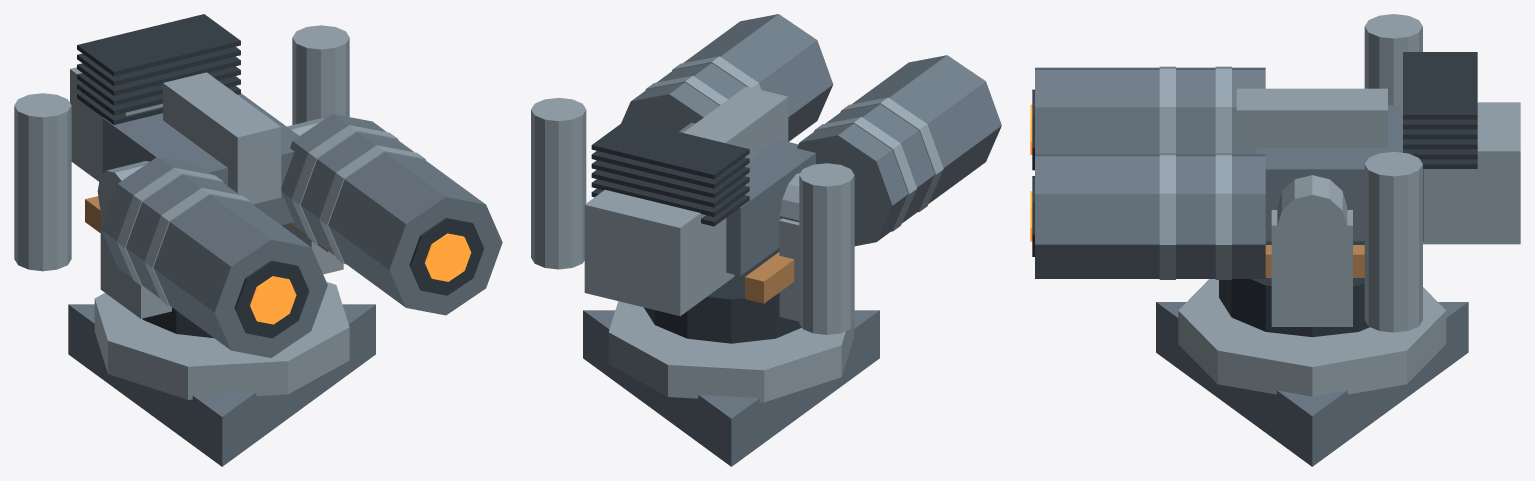
File: kiln_t2.glb
3 views of the same model, side by side, from view 1: azimuth 30°, elevation 25°; view 2: azimuth 150°, elevation 25°; view 3: azimuth 270°, elevation 25° (orthographic). The views are drawn at different scales.
Visible parts, largest first — view 1: Projector chamber (×2), Pressure tank (×2), Base upper armor, Foundation, Rear radiator (×6), Cooling spine, Focusing rim (×4), Receiver, Recessed throat (×2), Internal glow (×2), Elevation fork (×2), Rear equipment (+2 smaller); view 2: Projector chamber (×2), Pressure tank (×2), Base upper armor, Rear equipment, Rear radiator (×6), Foundation, Receiver, Yaw bearing, Cooling spine, Focusing rim (×4), Insulated feed, Elevation fork (+1 smaller); view 3: Projector chamber (×2), Base upper armor, Pressure tank (×2), Foundation, Rear equipment, Cooling spine, Rear radiator (×6), Focusing rim (×4), Elevation fork, Receiver, Trunnion, Yaw bearing (+1 smaller).
Boxes of the visible parts, box(x1,y1,x2,y2) form: Projector chamber (×2): box(101, 114, 502, 357); Pressure tank (×2): box(14, 25, 349, 271); Base upper armor: box(94, 282, 349, 399); Foundation: box(68, 304, 375, 466); Rear radiator (×6): box(77, 14, 240, 124); Cooling spine: box(163, 72, 281, 204); Focusing rim (×4): box(117, 125, 425, 306); Receiver: box(102, 93, 299, 225); Recessed throat (×2): box(234, 218, 484, 338); Internal glow (×2): box(250, 233, 471, 324); Elevation fork (×2): box(100, 211, 343, 318); Rear equipment: box(70, 67, 162, 181); Projector chamber (×2): box(621, 14, 1001, 246); Pressure tank (×2): box(531, 97, 854, 334); Base upper armor: box(608, 301, 854, 402); Rear equipment: box(584, 190, 734, 316); Rear radiator (×6): box(591, 119, 749, 226); Foundation: box(583, 310, 879, 466); Receiver: box(679, 122, 815, 275); Yaw bearing: box(644, 248, 801, 343); Cooling spine: box(683, 86, 788, 160); Focusing rim (×4): box(645, 56, 943, 231); Insulated feed: box(745, 252, 794, 303); Elevation fork: box(779, 218, 799, 321); Projector chamber (×2): box(1035, 67, 1265, 278); Base upper armor: box(1178, 279, 1446, 396); Pressure tank (×2): box(1364, 14, 1422, 332); Foundation: box(1156, 302, 1468, 466); Rear equipment: box(1423, 102, 1520, 244); Cooling spine: box(1236, 88, 1387, 154); Rear radiator (×6): box(1403, 52, 1477, 168); Focusing rim (×4): box(1159, 66, 1231, 279); Elevation fork: box(1271, 210, 1352, 326); Receiver: box(1256, 105, 1423, 241); Trunnion: box(1277, 175, 1347, 257); Yaw bearing: box(1219, 241, 1369, 337).
Bounding box in the file's own units: 1.65 × 1.46 × 2.11.
